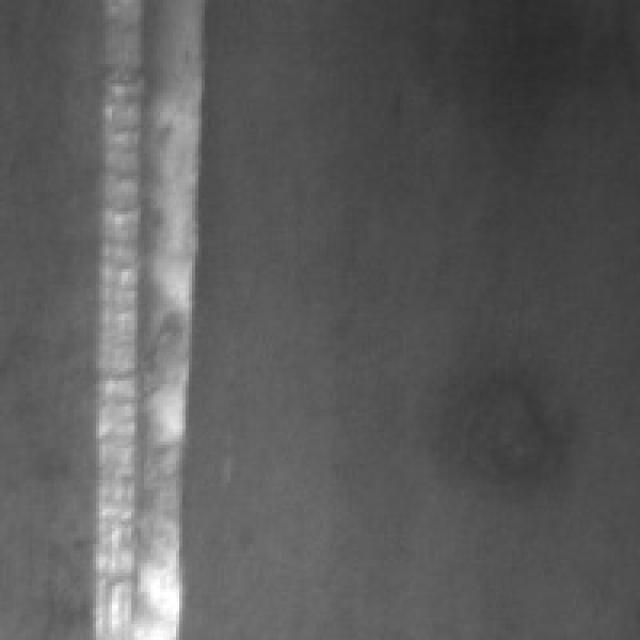scratches: (76, 0, 214, 630)
